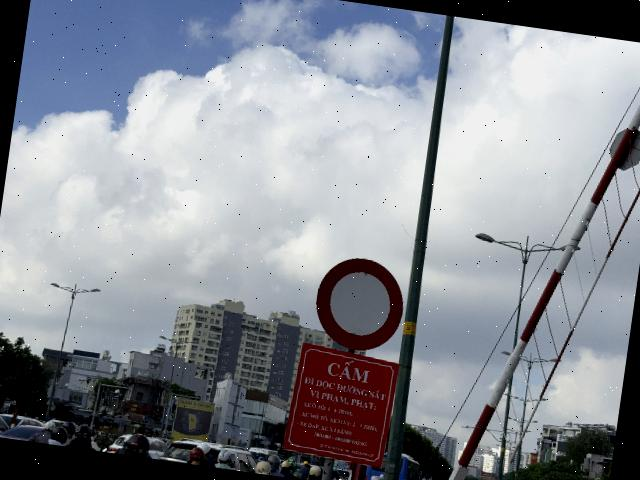duong-cam: (310, 253, 410, 356)
